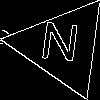N: (37, 21, 82, 72)
